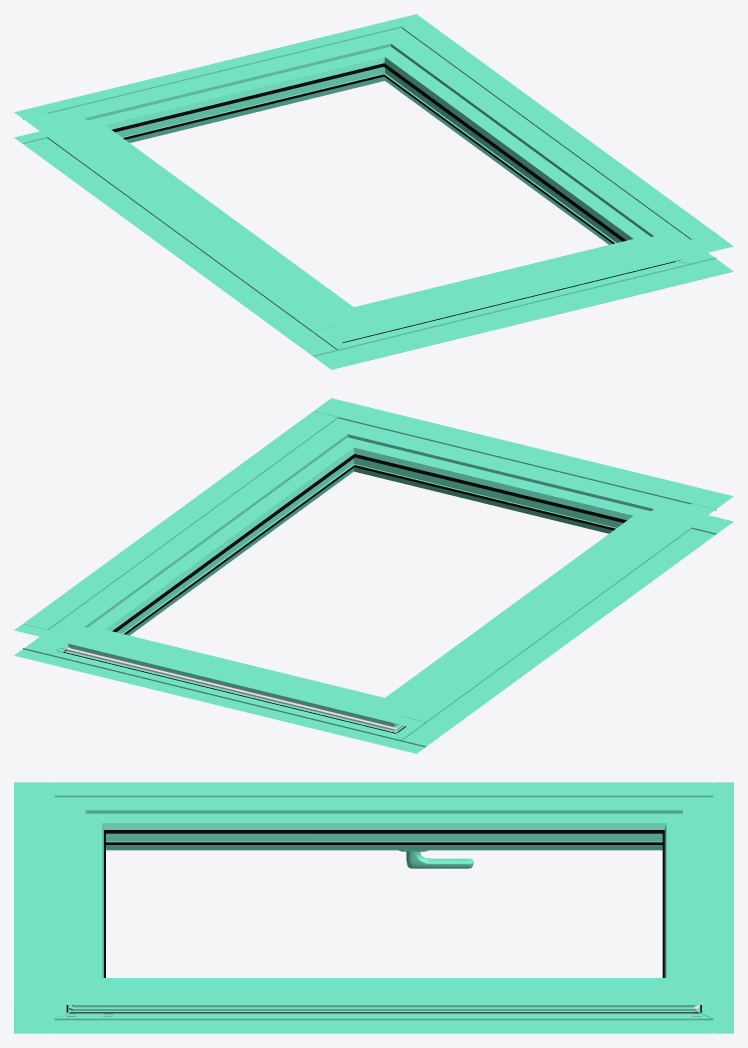
File: window.glb
The picture shows the model from 3 angles, top to bottom: view 1: azimuth 30°, elevation 25°; view 2: azimuth 150°, elevation 25°; view 3: azimuth 270°, elevation 25°; orthographic projection. The views are drawn at different scales.
Parts seen in each view (by area): view 1: #WIN0003_Window; view 2: #WIN0003_Window; view 3: #WIN0003_Window.
Part boxes in pixels (bbox=[...]): #WIN0003_Window: bbox=[14, 14, 733, 369]; #WIN0003_Window: bbox=[14, 398, 733, 753]; #WIN0003_Window: bbox=[14, 782, 733, 1033].
Bounding box in the file's own units: 0.208 × 0.0256 × 0.284.
Materials: 1 (1 with a texture image).
